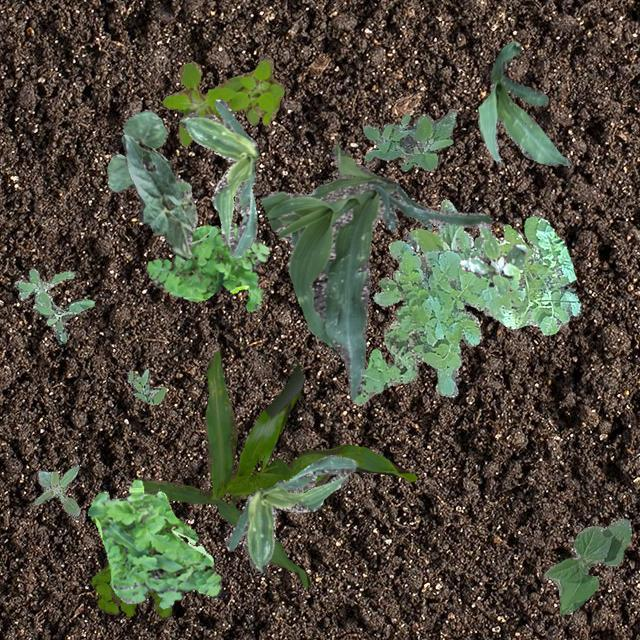crop: (136, 348, 417, 586), (260, 142, 490, 400), (225, 454, 356, 572), (178, 98, 258, 258), (478, 40, 570, 164), (120, 134, 196, 258), (544, 518, 630, 614), (106, 110, 166, 192)
weed: (353, 216, 580, 404), (86, 478, 222, 608), (372, 198, 482, 306), (144, 222, 268, 310), (162, 58, 284, 146), (13, 268, 94, 342), (362, 108, 456, 170), (458, 222, 528, 294), (90, 562, 170, 618), (34, 464, 78, 514), (126, 368, 164, 404)
